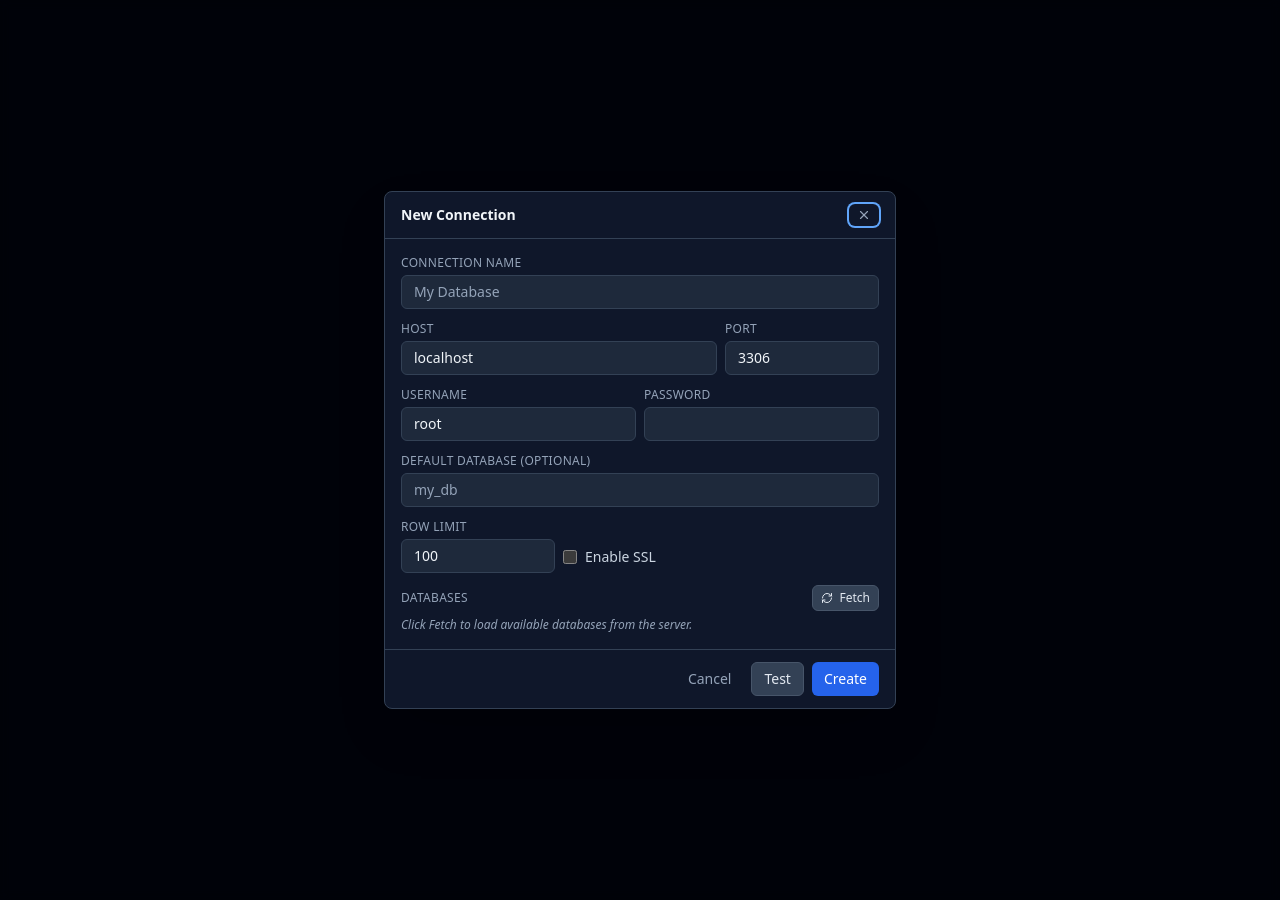
it: SessionForm › shows connection test result when Test is clicked
Click the button "Test" at [778, 679], box x1=752 y1=662 x2=804 y2=696
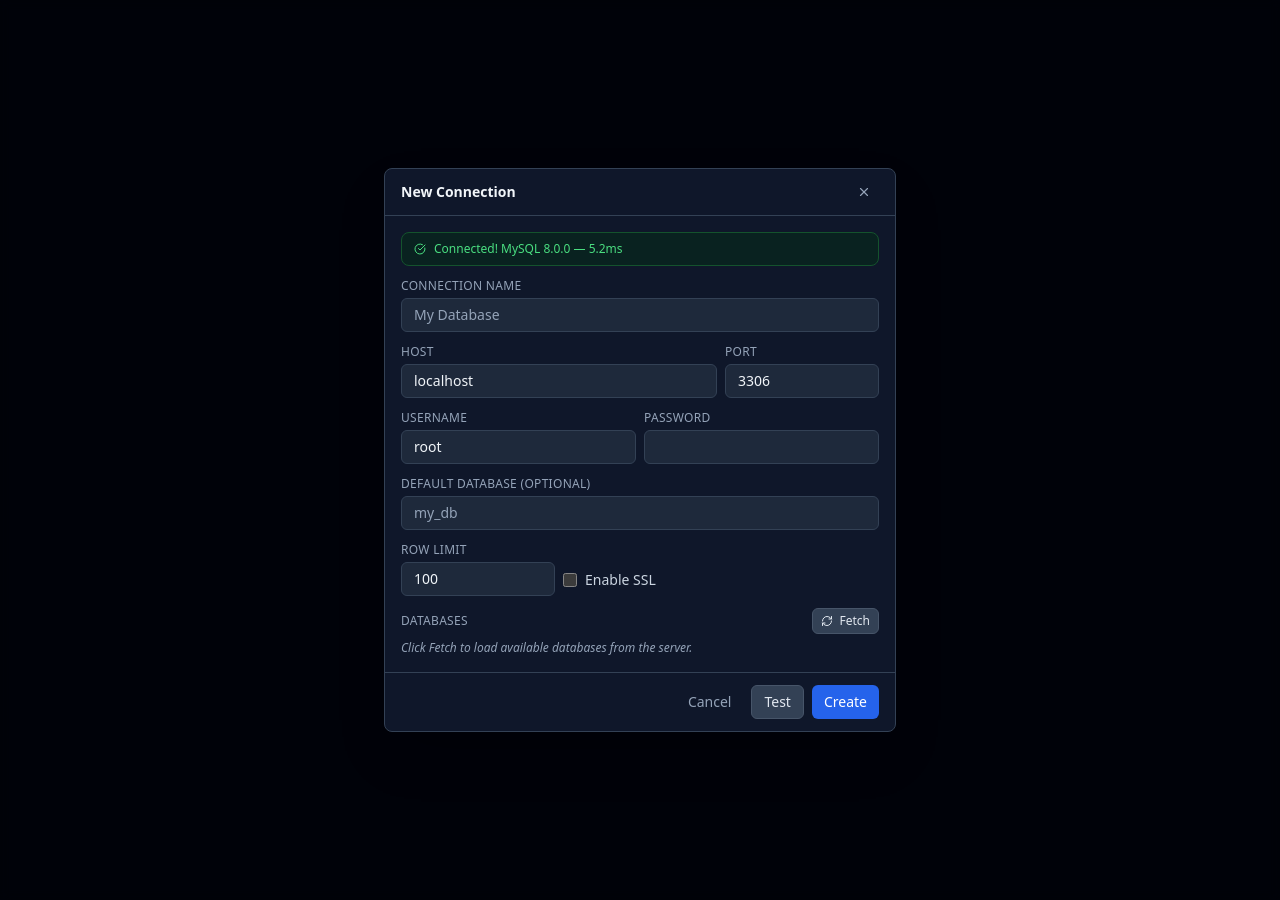
Result: the text "Connected! MySQL 8.0.0 — 5.2ms" is shown at x1=401 y1=232 x2=879 y2=266
